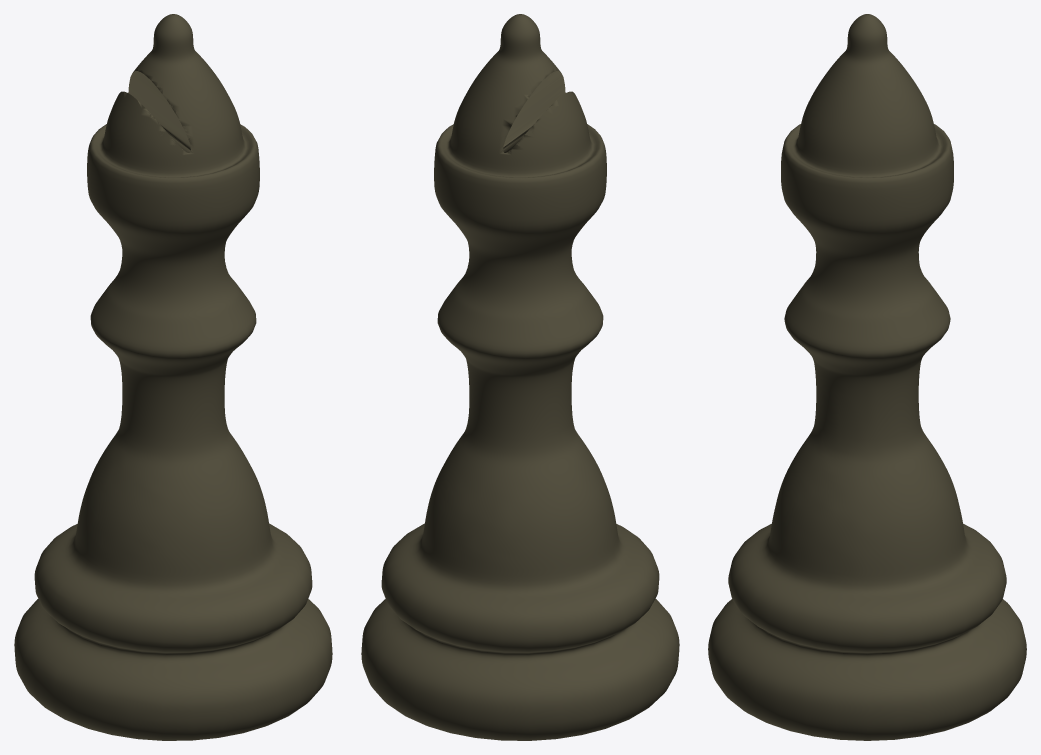
Rendered from white-bishop.obj.
3 renders of one model, left to right at view 1: azimuth 30°, elevation 25°; view 2: azimuth 150°, elevation 25°; view 3: azimuth 270°, elevation 25°, orthographic.
Visible parts, largest first — view 1: White_chess_side.002; view 2: White_chess_side.002; view 3: White_chess_side.002.
Boxes of the visible parts, x1=… form: White_chess_side.002: x1=14, y1=14, x2=332, y2=740; White_chess_side.002: x1=361, y1=14, x2=679, y2=740; White_chess_side.002: x1=708, y1=14, x2=1026, y2=740.
Size of the model in its own units: 1.28 by 2.99 by 1.28.
